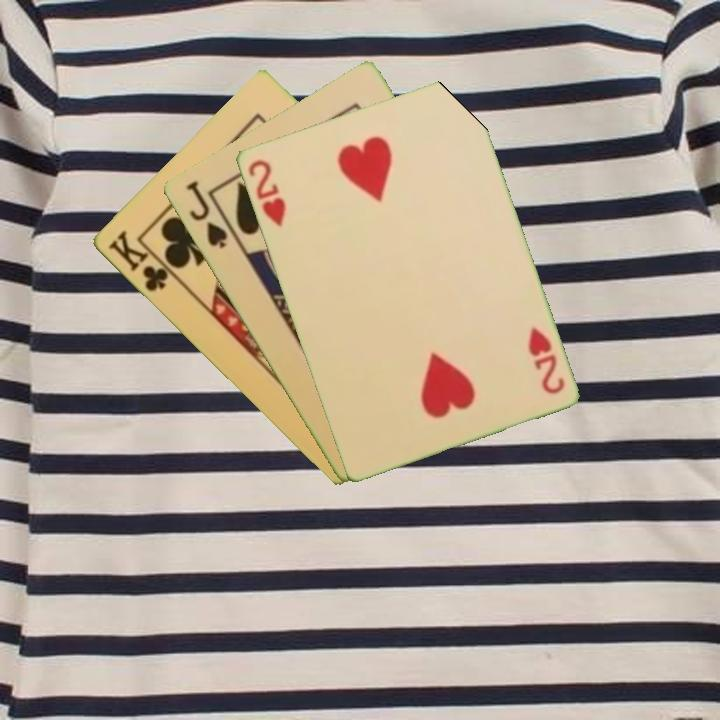2h: (244, 155, 288, 231), (524, 322, 567, 397)
Js: (181, 177, 230, 252)
Kc: (104, 227, 180, 295)
